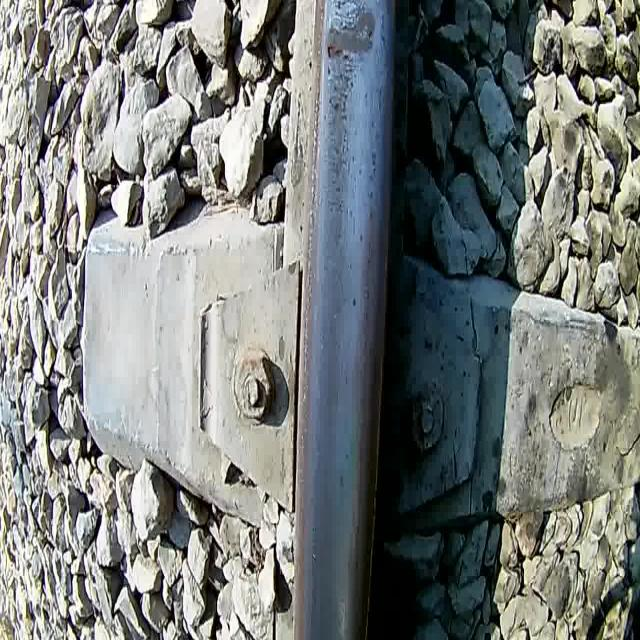Squats: (322, 5, 383, 71)
